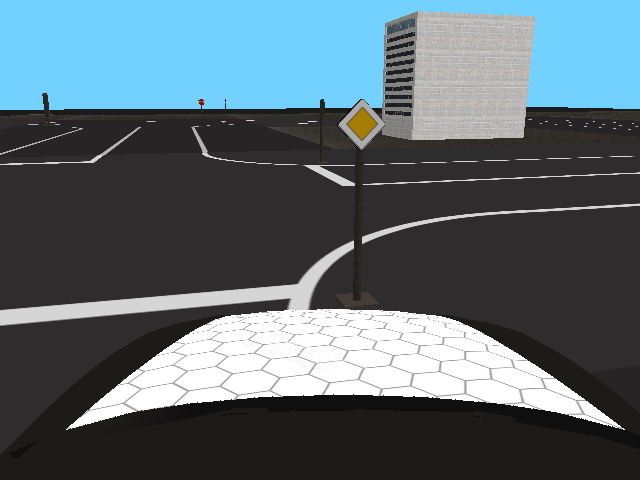priority: (338, 99, 386, 149)
